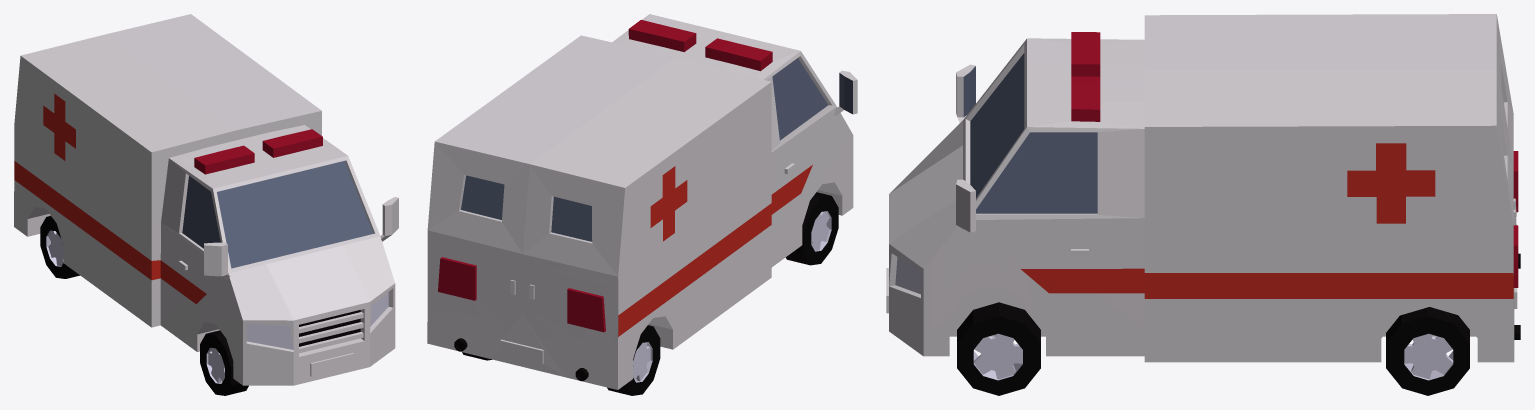
Rendered from Ambulance.fbx.
3 renders of one model, left to right at view 1: azimuth 30°, elevation 25°; view 2: azimuth 150°, elevation 25°; view 3: azimuth 270°, elevation 25°, orthographic. The views are drawn at different scales.
Visible parts, largest first — view 1: Ambulance, Ambulance wheel front right, Ambulance wheel rear right; view 2: Ambulance, Ambulance wheel front right, Ambulance wheel rear right; view 3: Ambulance, Ambulance wheel front left, Ambulance wheel rear left.
Part boxes in pixels (bbox=[...]): Ambulance: bbox=[14, 14, 398, 385]; Ambulance wheel front right: bbox=[200, 330, 248, 395]; Ambulance wheel rear right: bbox=[40, 216, 79, 278]; Ambulance: bbox=[427, 14, 857, 389]; Ambulance wheel front right: bbox=[785, 192, 838, 265]; Ambulance wheel rear right: bbox=[607, 325, 660, 395]; Ambulance: bbox=[886, 14, 1520, 362]; Ambulance wheel front left: bbox=[957, 302, 1040, 395]; Ambulance wheel rear left: bbox=[1386, 307, 1469, 395].
Size of the model in its own units: 281 by 285 by 591.
